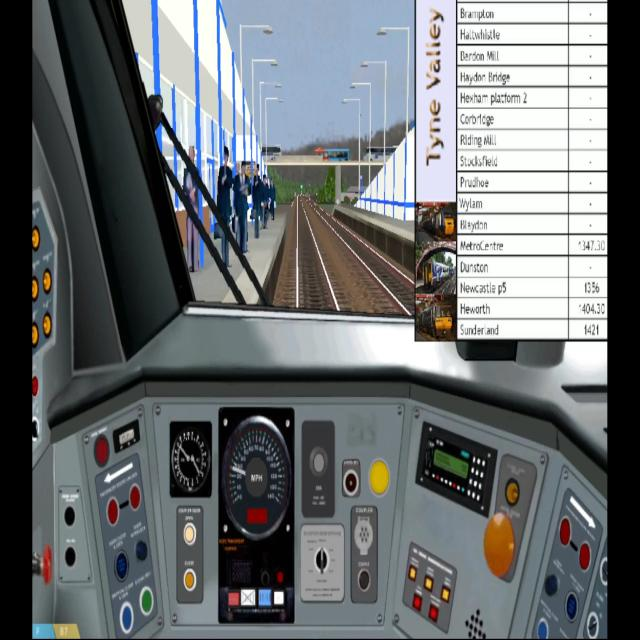Person: (184, 138, 202, 272), (215, 144, 232, 280), (237, 154, 249, 256), (254, 159, 262, 241), (264, 170, 270, 226)
Platform: (182, 202, 293, 311), (333, 203, 416, 273)
Spedometer: (220, 407, 298, 631)
Station: (122, 0, 275, 246), (356, 125, 415, 221)
Track: (306, 195, 416, 317), (279, 190, 352, 312)
